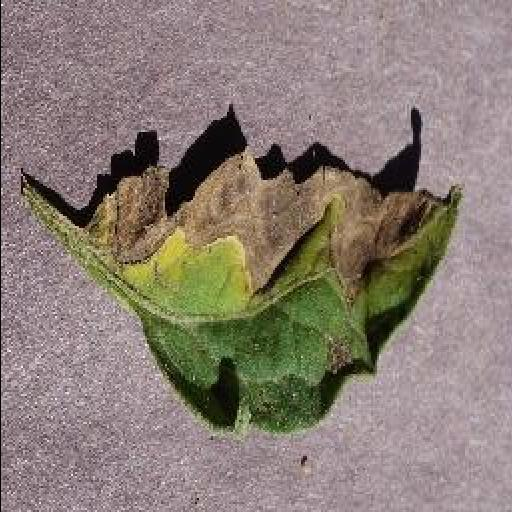disease_tomato: (79, 130, 465, 431)
